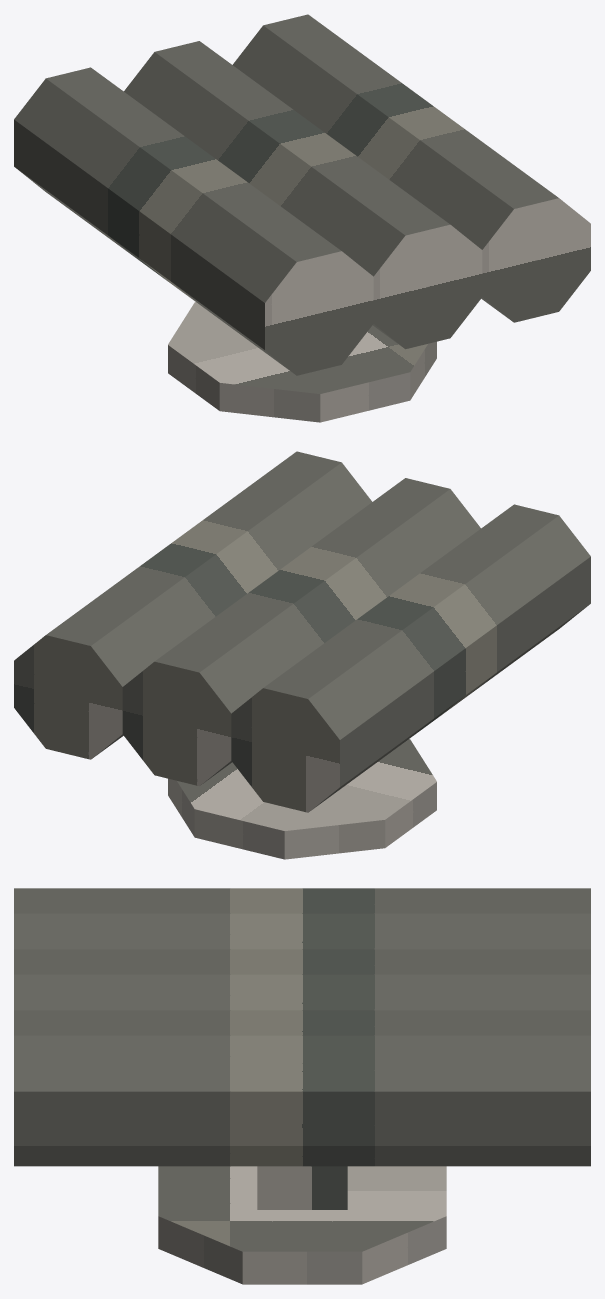
The model's file is torpedo_tubes.obj.
3 renders of one model, top to bottom at view 1: azimuth 30°, elevation 25°; view 2: azimuth 150°, elevation 25°; view 3: azimuth 270°, elevation 25°, orthographic. The views are drawn at different scales.
Parts seen in each view (by area): view 1: tube1, tube2, tube3, base; view 2: tube1, tube2, tube3, base; view 3: tube3, tube1, tube2, base, cube.
Part boxes in pixels (bbox=[...]): tube1: bbox=[14, 67, 373, 375]; tube2: bbox=[124, 41, 482, 349]; tube3: bbox=[233, 14, 590, 322]; base: bbox=[168, 302, 436, 422]; tube1: bbox=[231, 504, 590, 812]; tube2: bbox=[122, 478, 480, 786]; tube3: bbox=[14, 451, 371, 759]; base: bbox=[168, 739, 436, 859]; tube3: bbox=[14, 1010, 590, 1166]; tube1: bbox=[14, 888, 590, 949]; tube2: bbox=[14, 949, 590, 1010]; base: bbox=[158, 1166, 446, 1284]; cube: bbox=[257, 1166, 347, 1209].
Size of the model in its own units: 3 by 2 by 4.
